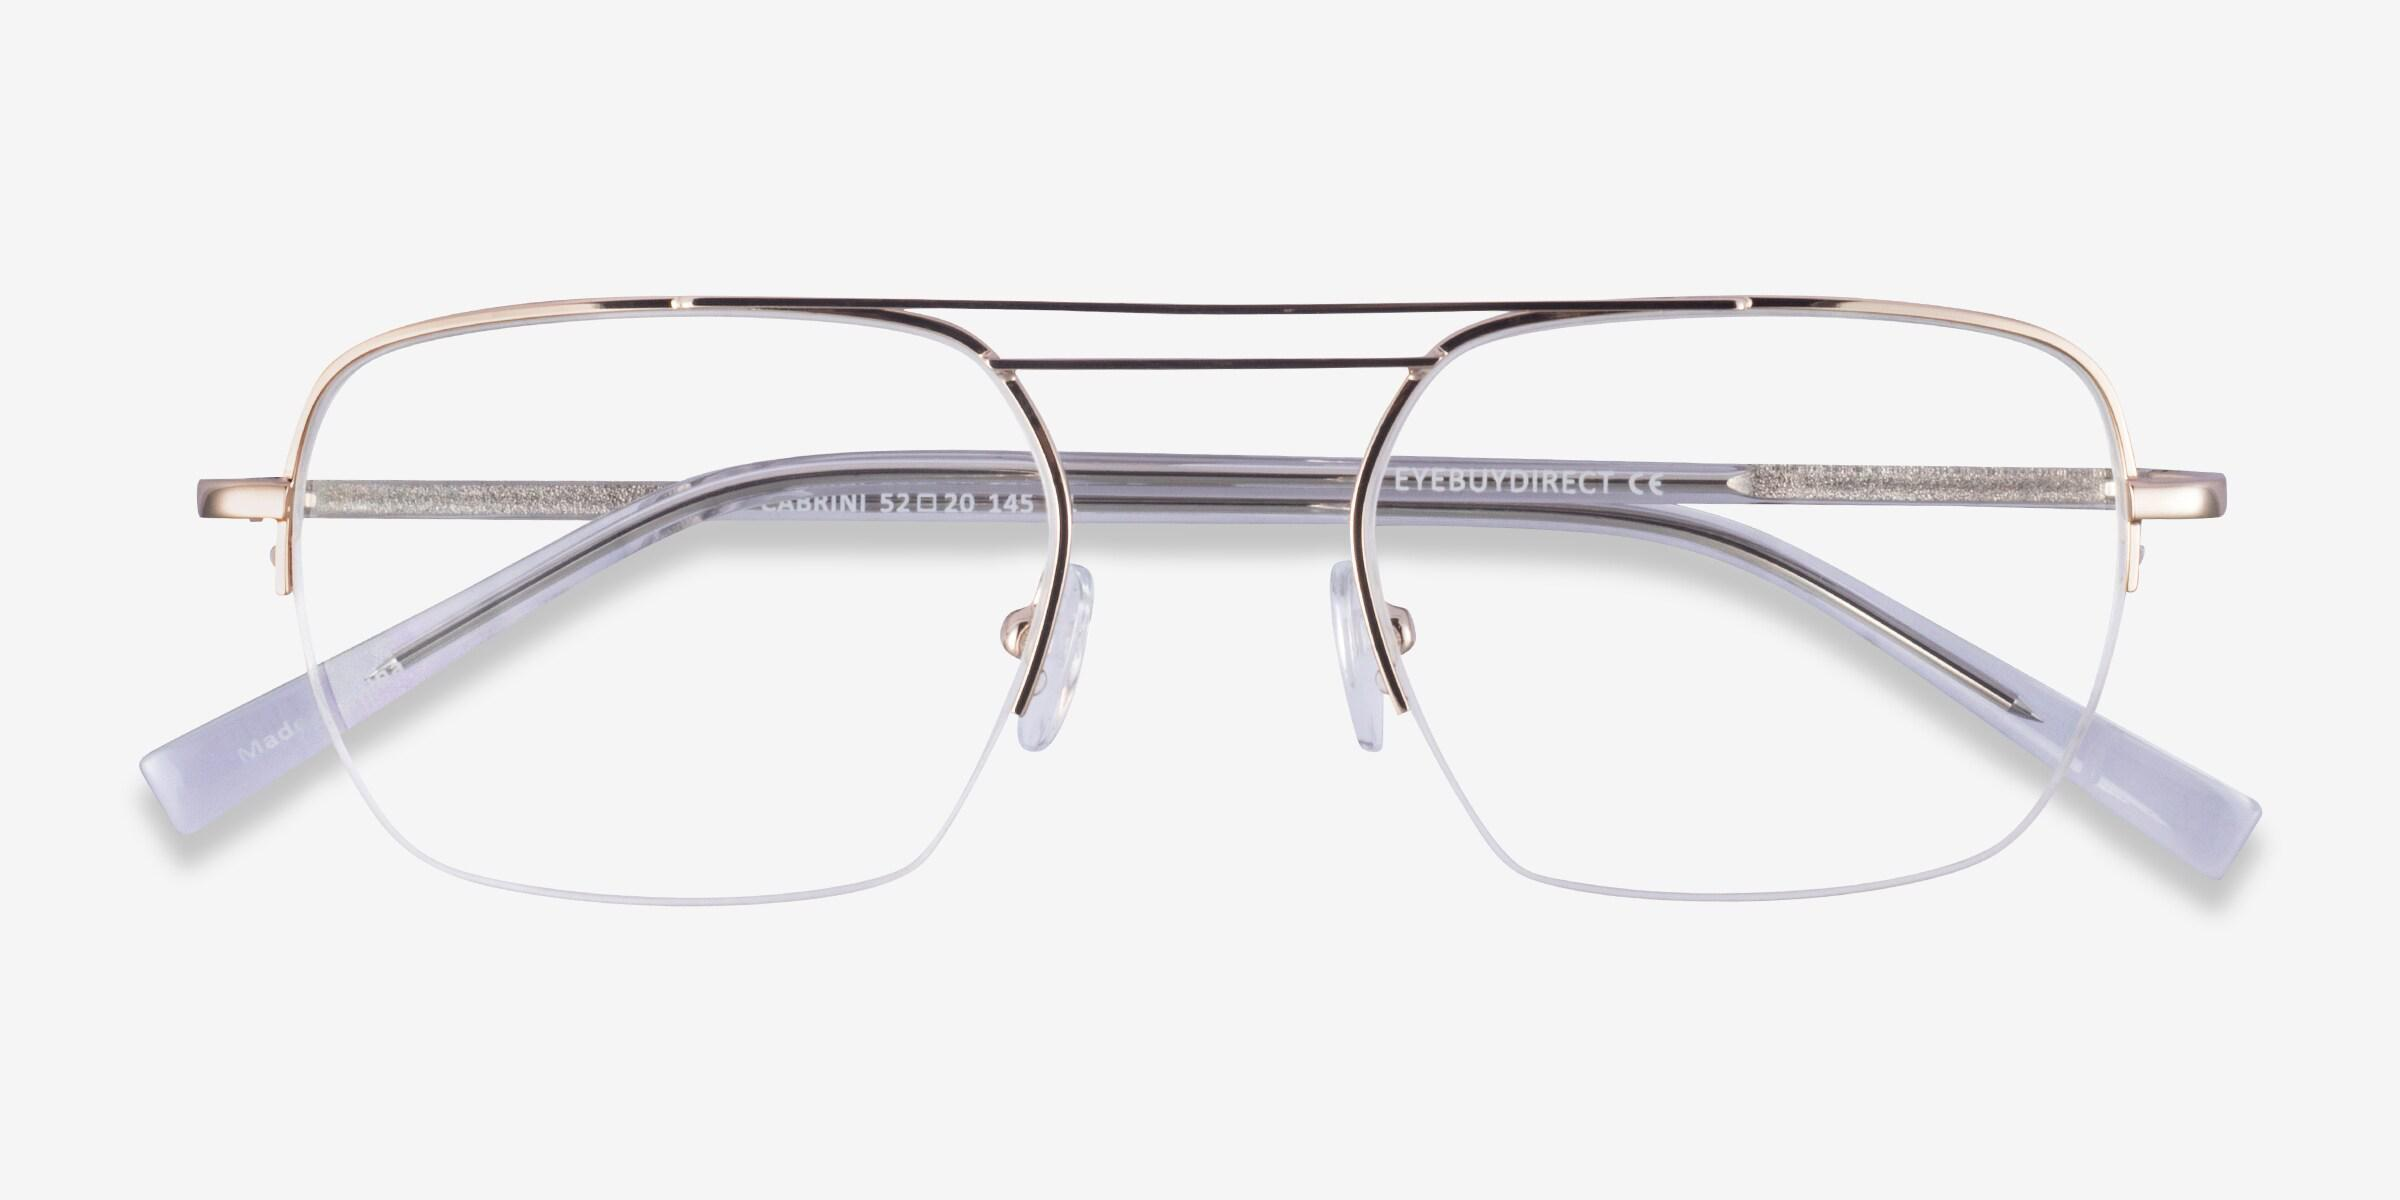Eye-glass: (132, 279, 2256, 921)
